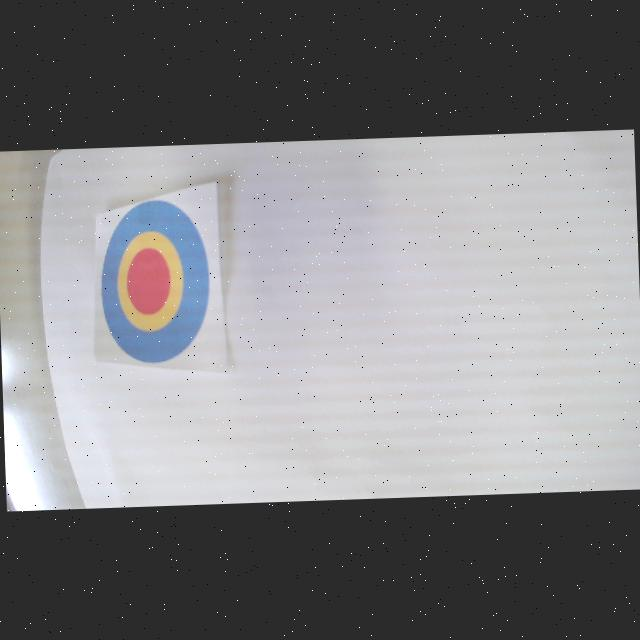COGNITIVE: (99, 198, 212, 366)
